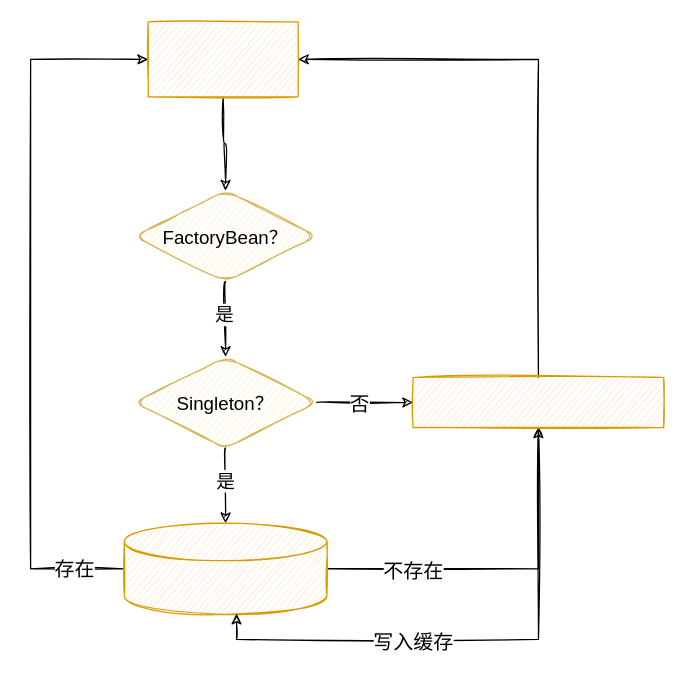
This 686x675 diagram has some shape labels left out. The centre of each missing label's shape, as x and y in pixels:
"factoryBean.getObject()" belongs at point 538,402.
"factoryBeanCache" belongs at point 225,568.
